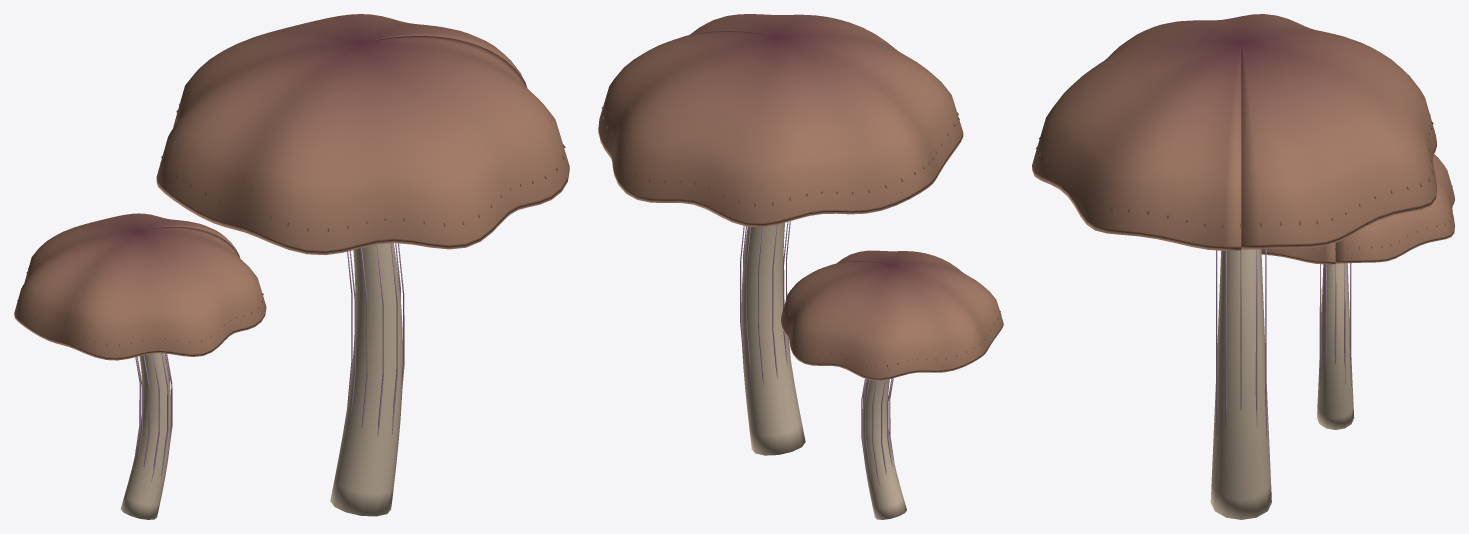
The model's file is enchanted-porcini.glb.
3 views of the same model, side by side, from view 1: azimuth 30°, elevation 25°; view 2: azimuth 150°, elevation 25°; view 3: azimuth 270°, elevation 25° (orthographic). The views are drawn at different scales.
Parts seen in each view (by area): view 1: enchanted-porcini-sculpted-details; view 2: enchanted-porcini-sculpted-details; view 3: enchanted-porcini-sculpted-details.
Boxes of the visible parts, x1,y1,x2,y2 form: enchanted-porcini-sculpted-details: (14,14,569,519); enchanted-porcini-sculpted-details: (598,14,1003,519); enchanted-porcini-sculpted-details: (1032,14,1454,519).
Bounding box in the file's own units: 1.04 × 1 × 0.8264.
